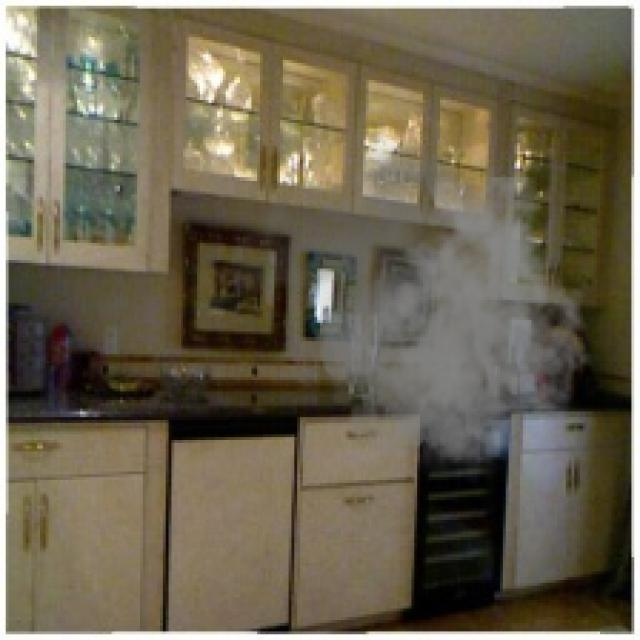smoke: (220, 134, 594, 489)
